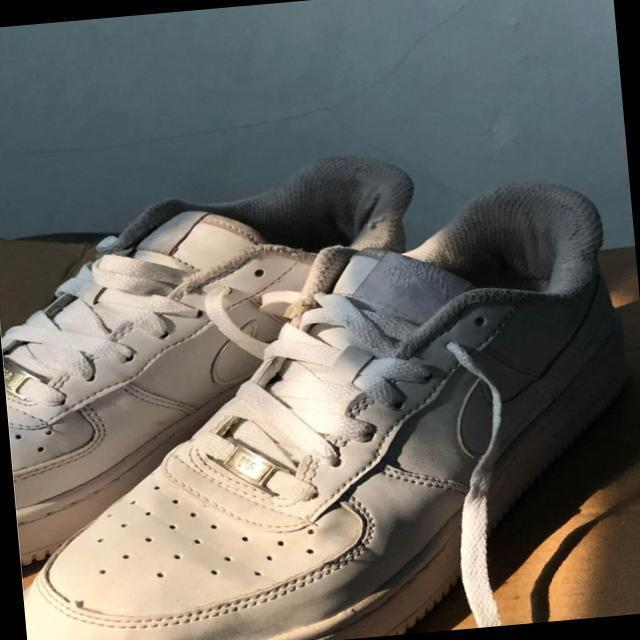nike fake air force: (0, 214, 640, 640), (0, 172, 455, 579)
